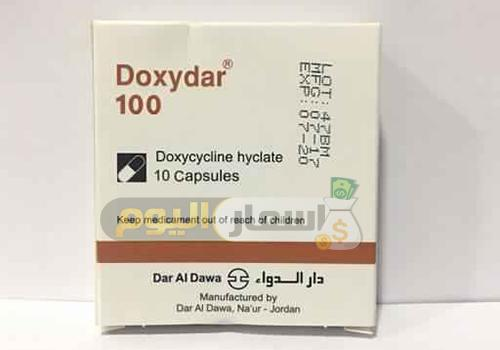Medicine: (84, 14, 389, 339)
